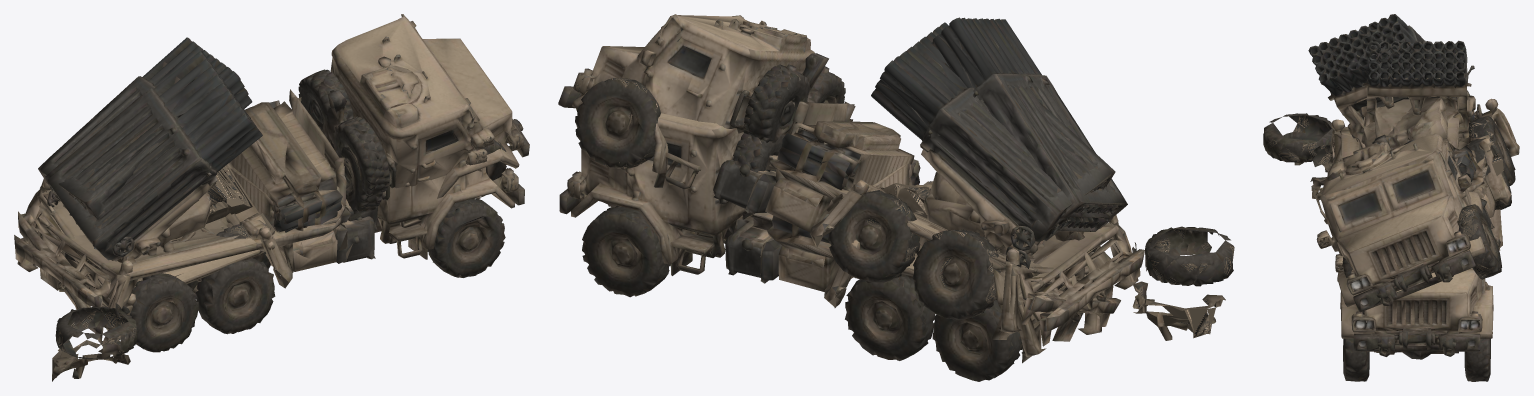
The model's file is rocket_battery.glb.
The picture shows the model from 3 angles, left to right: view 1: azimuth 30°, elevation 25°; view 2: azimuth 150°, elevation 25°; view 3: azimuth 270°, elevation 25°; orthographic projection. The views are drawn at different scales.
Parts seen in each view (by area): view 1: WRECK_hull_hull, WRECK_hull_metal, WRECK_hull_plate, hull_plate, hull_rubber, hull_hull, hull_metal, WRECK_hull_rubber; view 2: WRECK_hull_rubber, WRECK_hull_hull, hull_metal, WRECK_hull_plate, hull_hull, hull_rubber, WRECK_hull_metal, hull_plate; view 3: WRECK_hull_hull, hull_hull, WRECK_hull_metal, hull_metal, WRECK_hull_rubber, WRECK_hull_plate, hull_rubber, hull_plate.
Boxes of the visible parts, x1=… form: WRECK_hull_hull: x1=298, y1=14, x2=529, y2=230; WRECK_hull_metal: x1=40, y1=51, x2=274, y2=306; WRECK_hull_plate: x1=18, y1=89, x2=351, y2=346; hull_plate: x1=14, y1=168, x2=347, y2=329; hull_rubber: x1=85, y1=197, x2=505, y2=352; hull_hull: x1=321, y1=123, x2=524, y2=262; hull_metal: x1=38, y1=37, x2=273, y2=274; WRECK_hull_rubber: x1=52, y1=140, x2=506, y2=381; WRECK_hull_rubber: x1=575, y1=78, x2=1234, y2=340; WRECK_hull_hull: x1=558, y1=14, x2=845, y2=210; hull_metal: x1=851, y1=22, x2=1118, y2=293; WRECK_hull_plate: x1=745, y1=100, x2=1120, y2=341; hull_hull: x1=559, y1=102, x2=794, y2=277; hull_rubber: x1=582, y1=204, x2=1064, y2=381; WRECK_hull_metal: x1=850, y1=17, x2=1127, y2=268; hull_plate: x1=760, y1=159, x2=1144, y2=363; WRECK_hull_hull: x1=1316, y1=133, x2=1500, y2=312; hull_hull: x1=1335, y1=191, x2=1493, y2=356; WRECK_hull_metal: x1=1308, y1=14, x2=1498, y2=160; hull_metal: x1=1331, y1=40, x2=1496, y2=148; WRECK_hull_rubber: x1=1263, y1=113, x2=1515, y2=313; WRECK_hull_plate: x1=1443, y1=108, x2=1519, y2=228; hull_rubber: x1=1343, y1=237, x2=1502, y2=381; hull_plate: x1=1331, y1=127, x2=1502, y2=251.
Bounding box in the file's own units: 6.4 × 3.24 × 3.
Materials: 1 (1 with a texture image).
